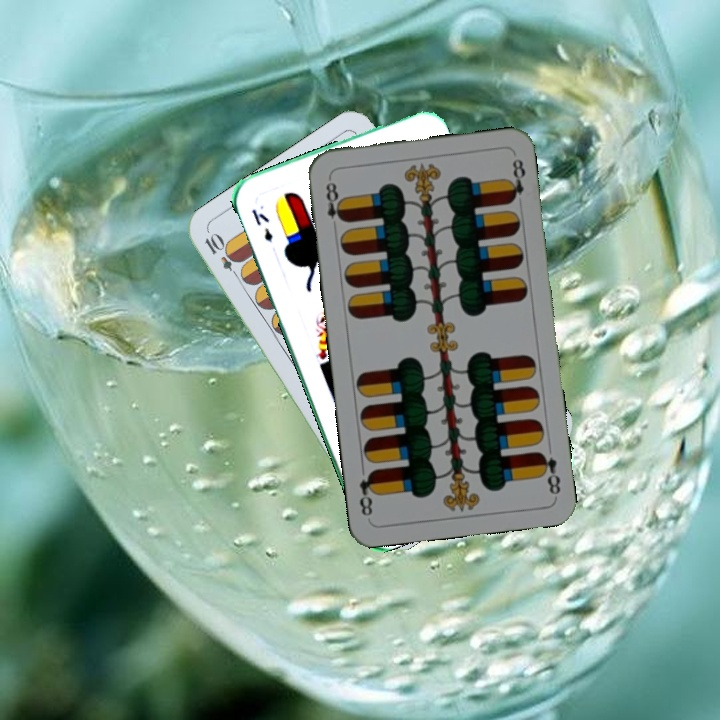E10: (200, 229, 245, 283)
E8: (322, 174, 347, 233), (535, 447, 563, 497)
EK: (247, 205, 276, 245)
